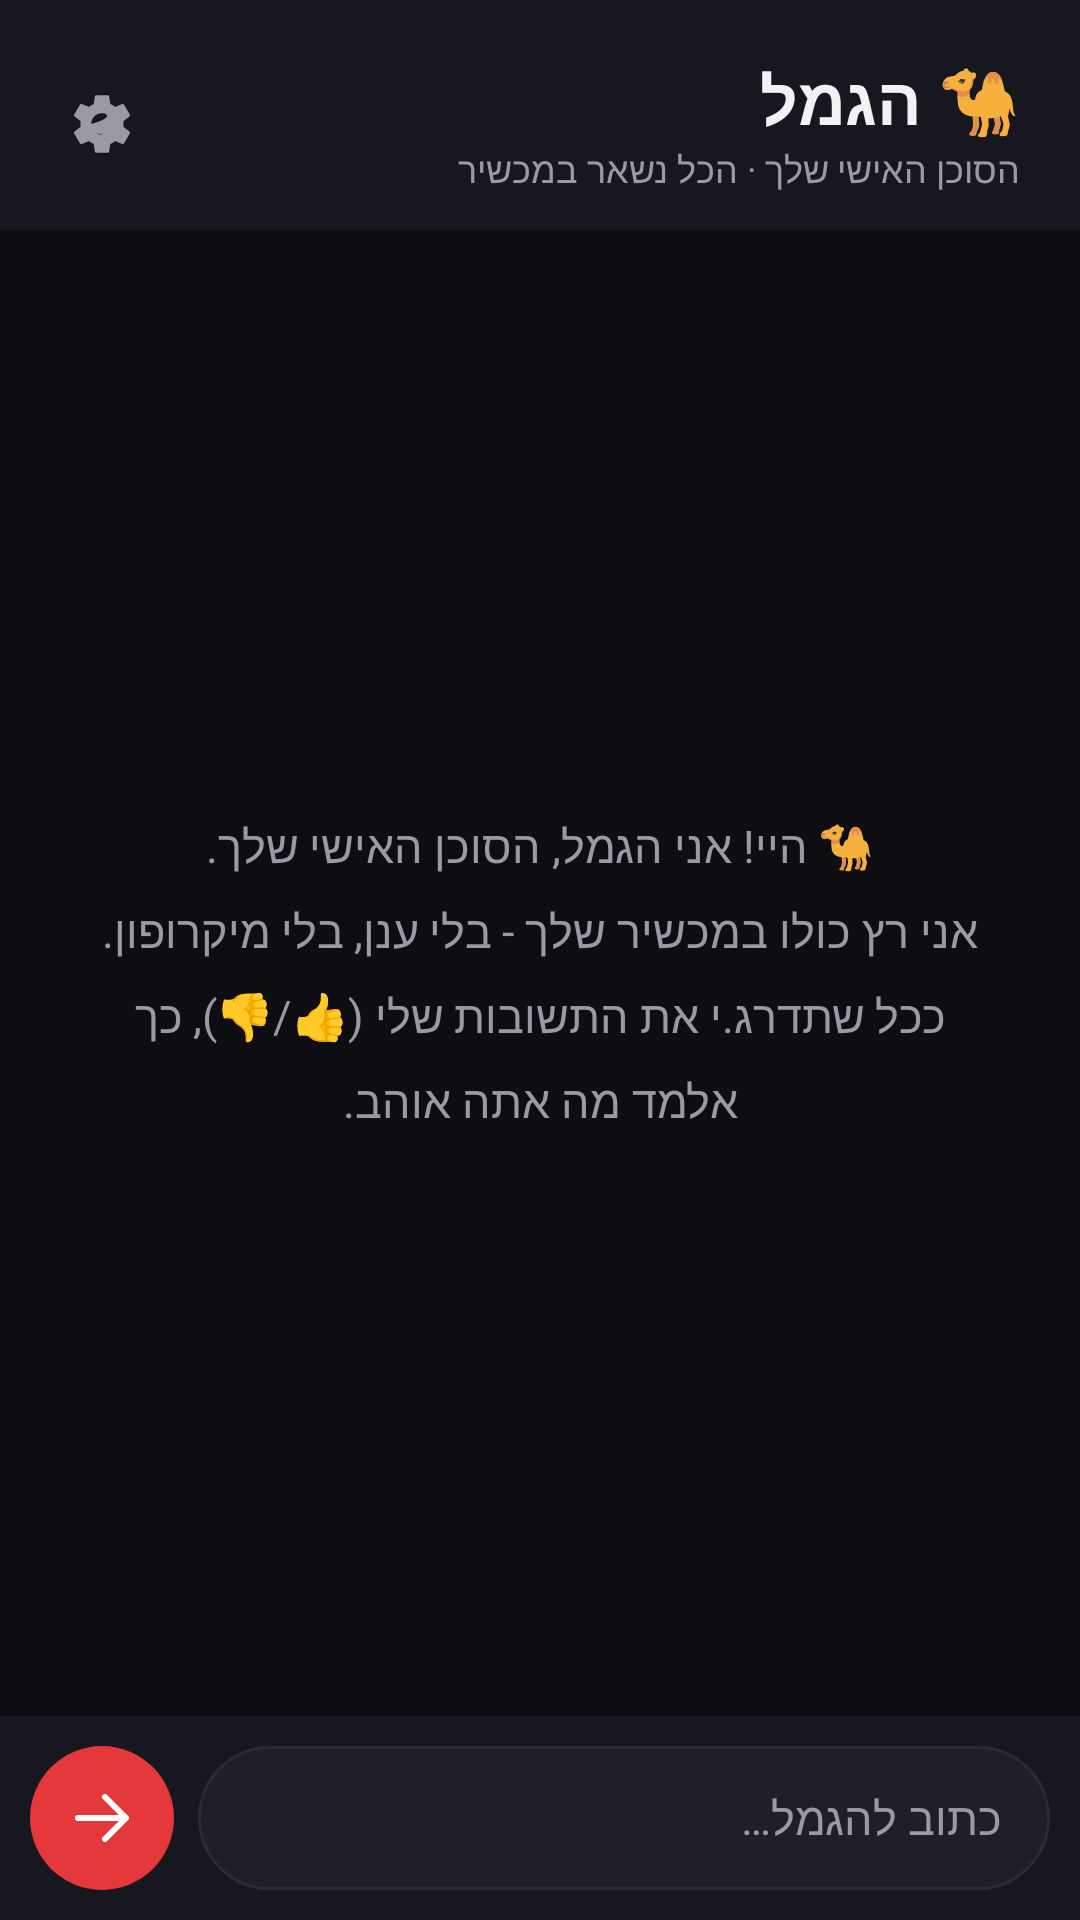

Where icons sit on this 1080x1920 app screen, as (x1, y1, x2, y2):
הגדרות: (74, 95, 130, 153)
